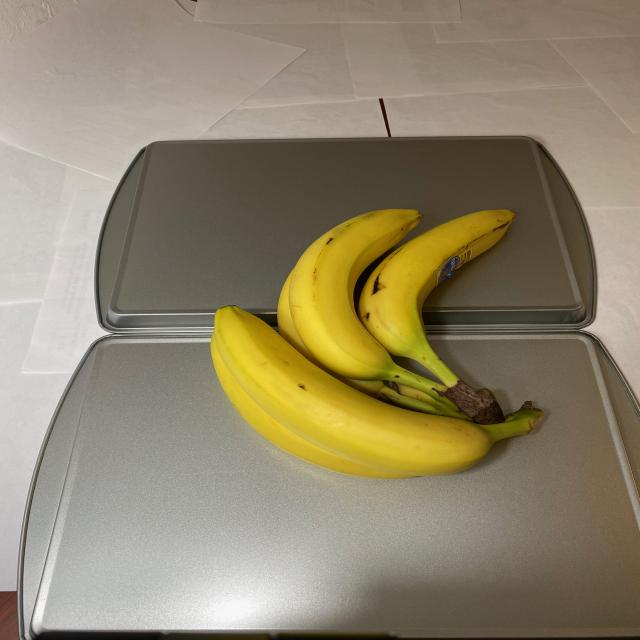Banana: (206, 206, 530, 477)
